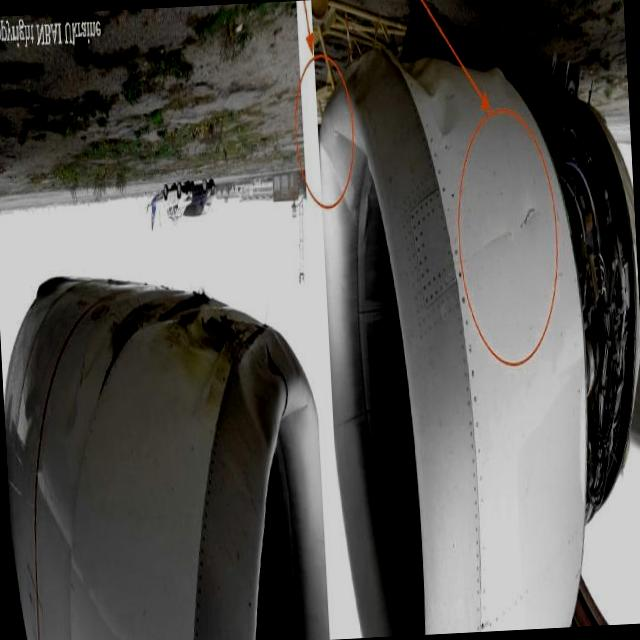crack: (517, 198, 543, 252)
dent: (430, 78, 460, 142)
